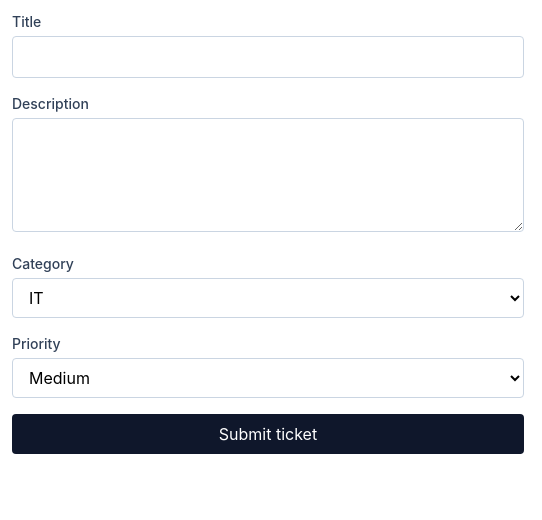
Test: TicketForm › blocks submission when required fields are empty
Click the button "Submit ticket": (268, 434) [12,414,524,454]
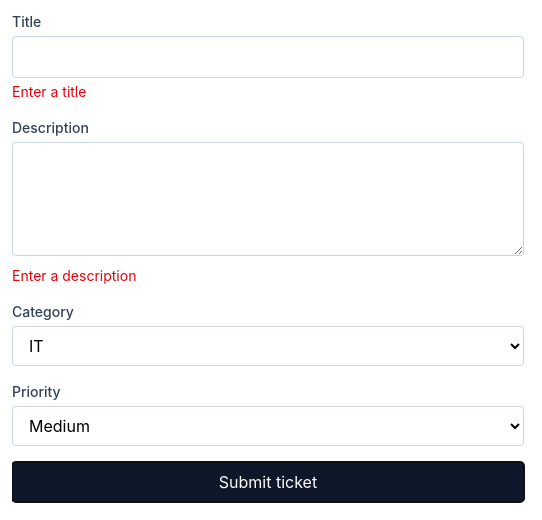
Expected: the text "Enter a title" is shown, [12,83,86,100]
